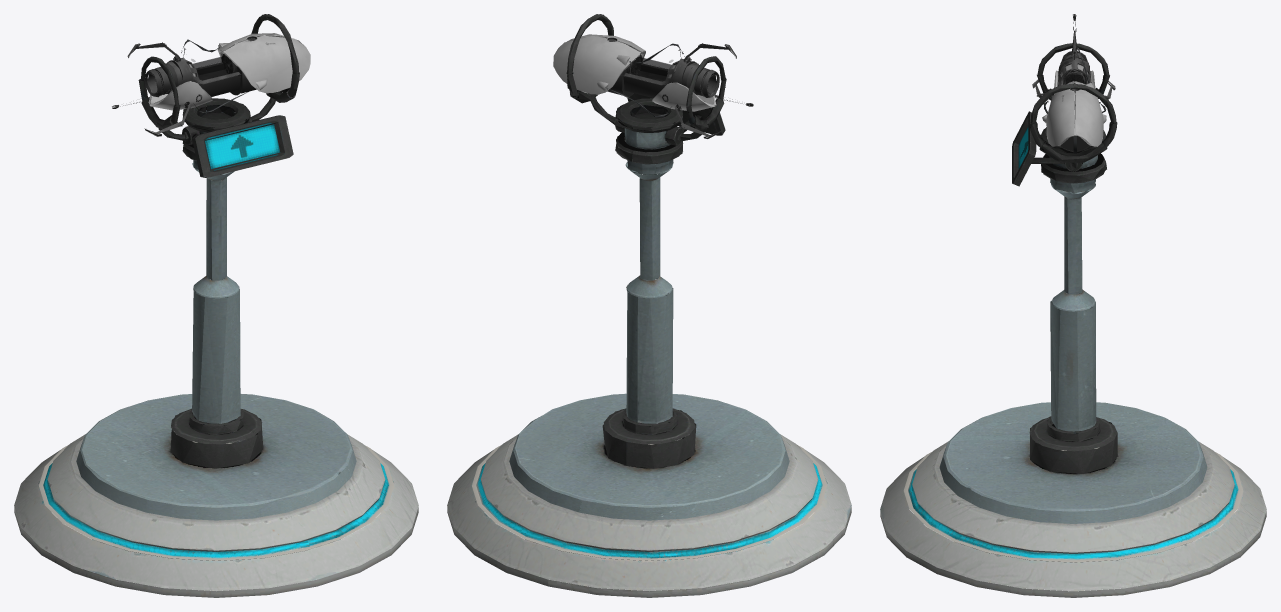
File: portal_gun.glb
3 views of the same model, side by side, from view 1: azimuth 30°, elevation 25°; view 2: azimuth 150°, elevation 25°; view 3: azimuth 270°, elevation 25° (orthographic). The views are drawn at different scales.
Visible parts, largest first — view 1: Portalgun_pedestal, Object_6; view 2: Portalgun_pedestal, Object_6; view 3: Portalgun_pedestal, Object_6.
Part boxes in pixels (x1=…): Portalgun_pedestal: x1=14, y1=14, x2=418, y2=597; Object_6: x1=112, y1=33, x2=310, y2=136; Portalgun_pedestal: x1=447, y1=14, x2=851, y2=597; Object_6: x1=553, y1=34, x2=753, y2=138; Portalgun_pedestal: x1=880, y1=43, x2=1266, y2=597; Object_6: x1=1032, y1=14, x2=1115, y2=153.
Bounding box in the file's own units: 0.7582 × 1.01 × 0.7582.
Materials: 3 (2 with a texture image).
